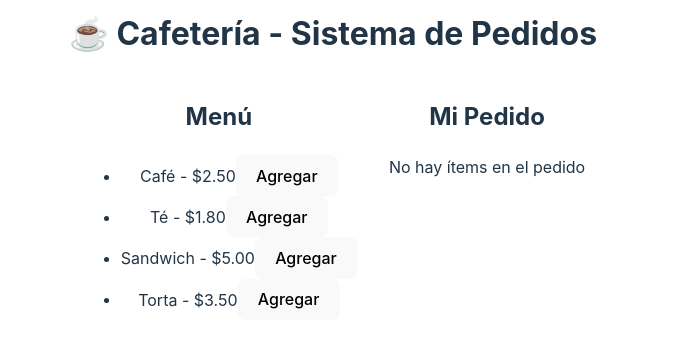
it: App - Integración Completa › debe completar el flujo completo: cargar menú, agregar ítems, calcular total, enviar pedido
Expected: the text "Café - $2.50" is shown, [140,166,236,186]
# Agregar productos
Click the button "Agregar" in the row of "Café" at [287, 176], box [236,155,338,196]
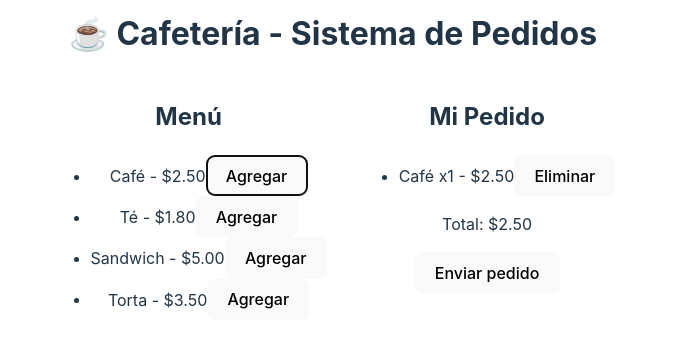
Click the button "Agregar" in the row of "Té" at [246, 217], box [196,196,298,237]
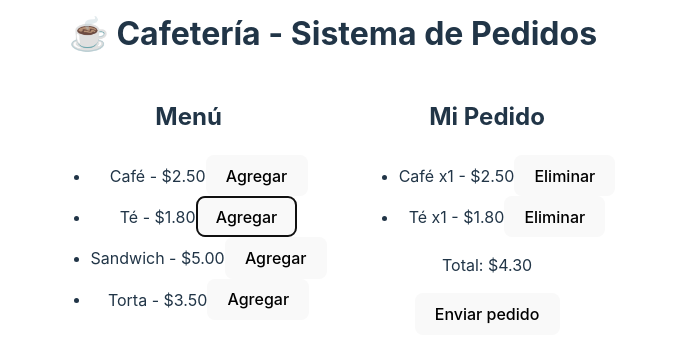
Expected: the text "Café x1 - $2.50" is shown, [399,166,514,186]
Expected: the text "Total: $4.30" is shown, [442,255,532,275]
Expected: the text "Té x1 - $1.80" is shown, [409,207,504,227]
# Enviar pedido
Click the button "Enviar pedido" at [487, 314], box [415,293,560,334]
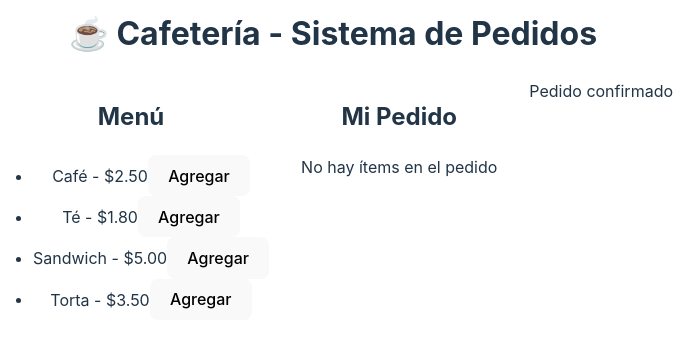
Expected: the text "Pedido confirmado" is shown, [529,81,673,101]
Expected: the text "No hay ítems en el pedido" is shown, [301,155,497,179]
